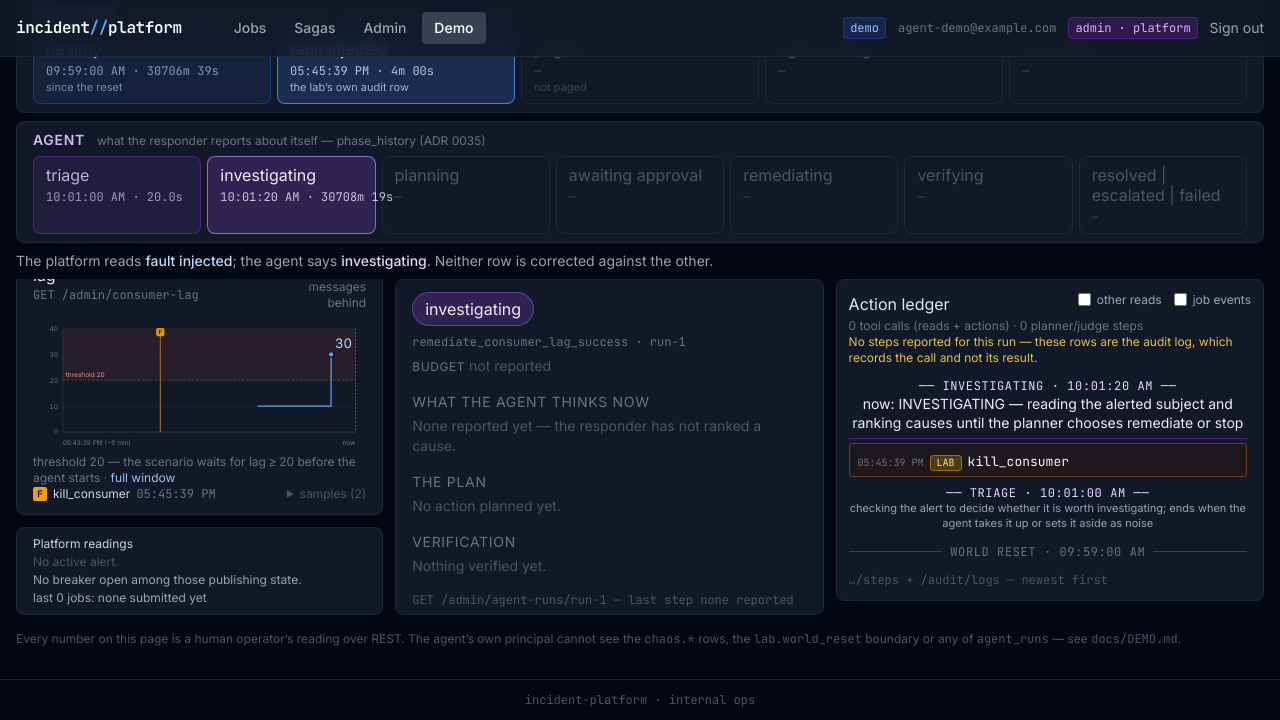
Test case: DemoPage — the chart reads the take › zooms to the take and back out to the platform’s whole window
(page scrolled)
expect the element with test id "metric-chart-lag" shows "−6 min": met, box x1=16 y1=279 x2=383 y2=515
Click the button with test id "metric-chart-lag-zoom" at [143, 478], box x1=111 y1=470 x2=175 y2=486
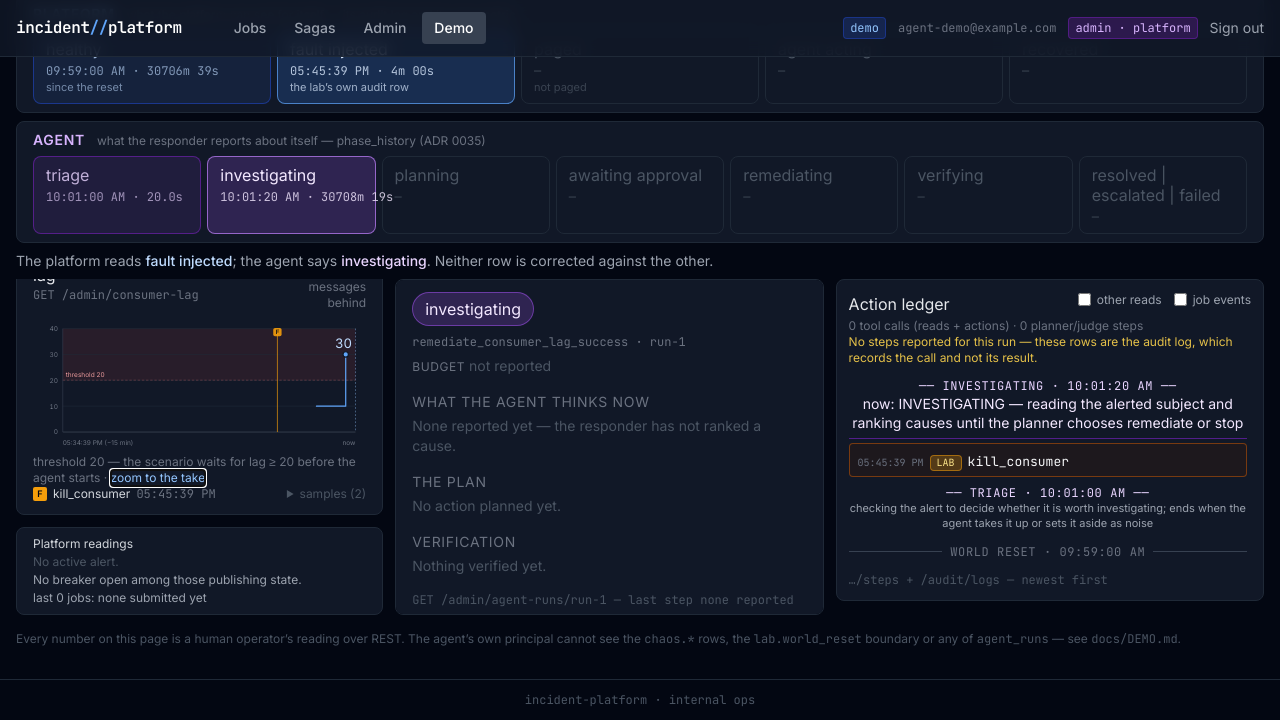
expect the element with test id "metric-chart-lag" shows "−15 min": met, box x1=16 y1=279 x2=383 y2=515
